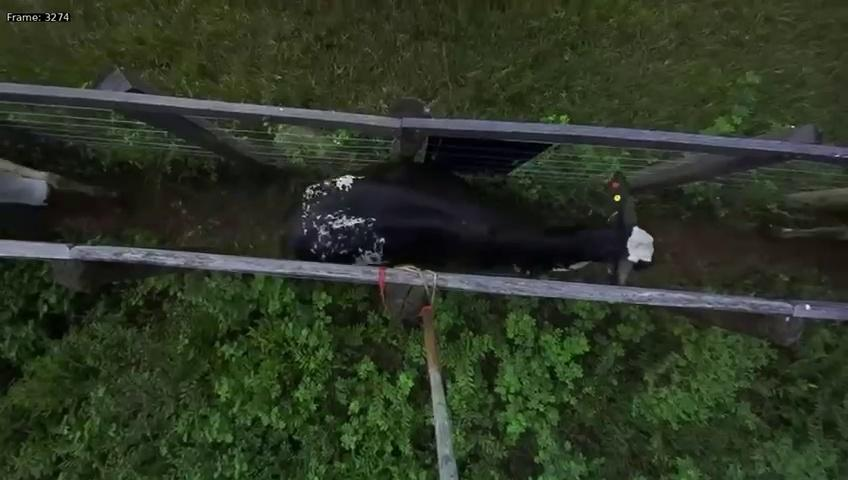cattle: (288, 167, 657, 296)
